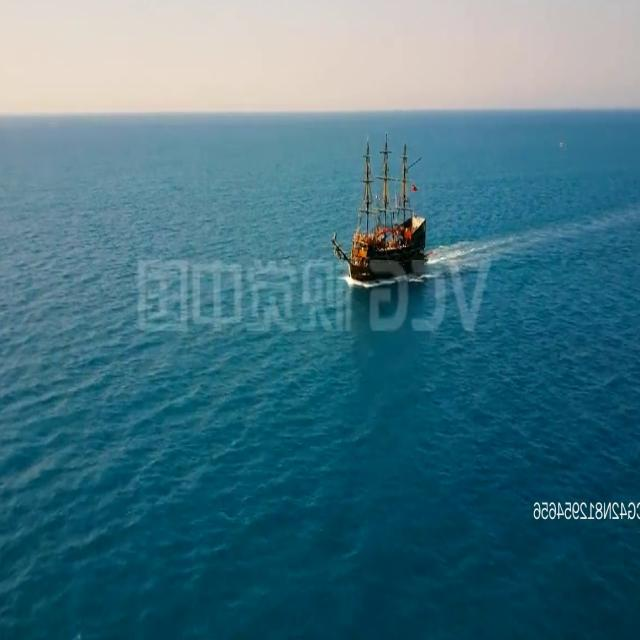sailboat: (328, 141, 432, 291)
